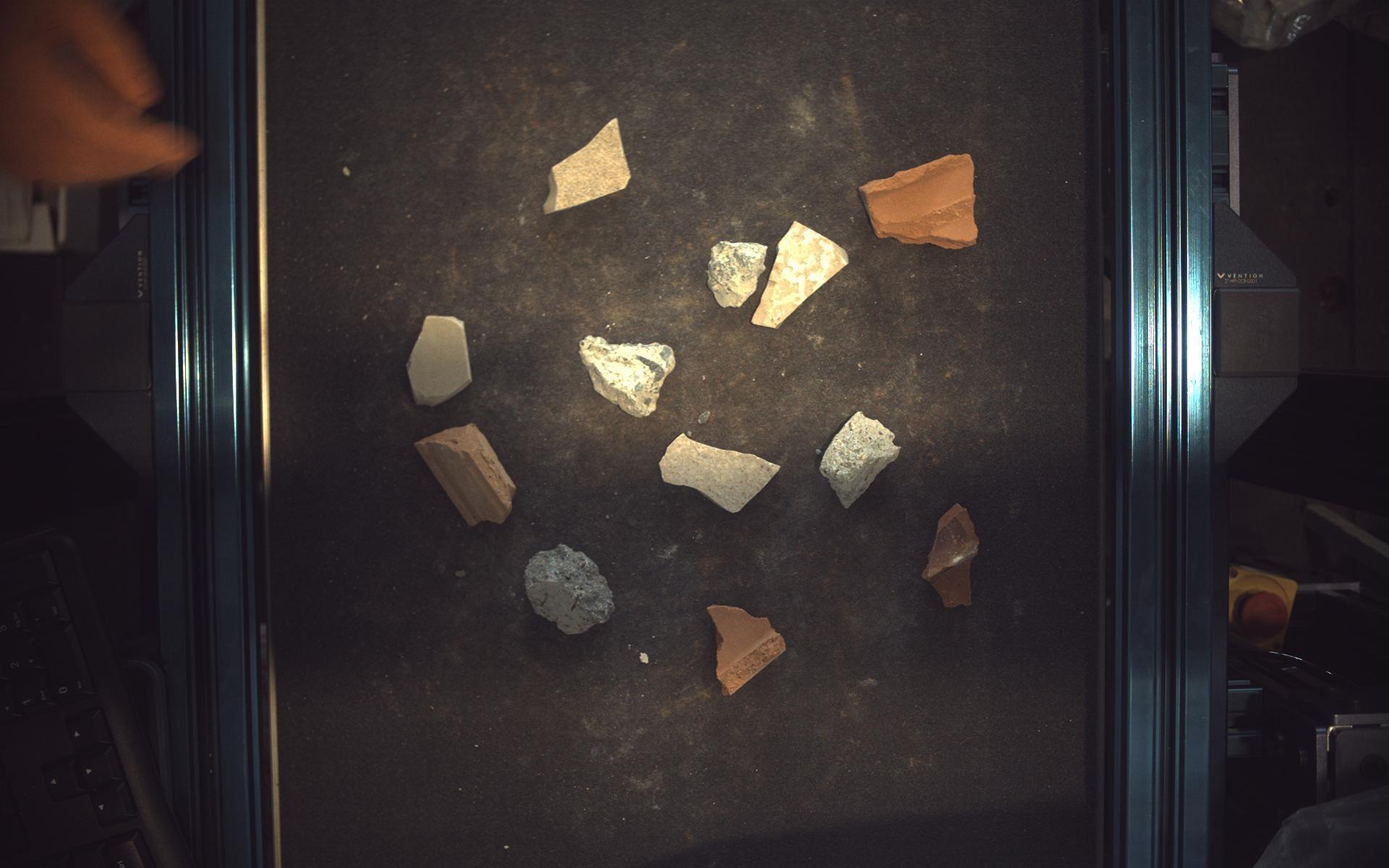brick: (862, 153, 980, 248), (416, 424, 516, 526), (708, 605, 787, 697), (925, 504, 981, 608)
concrete: (525, 545, 615, 636), (580, 336, 676, 417), (821, 412, 901, 508), (708, 240, 768, 307)
tile: (753, 221, 850, 328), (660, 434, 781, 513), (543, 117, 632, 213), (407, 316, 472, 406)
